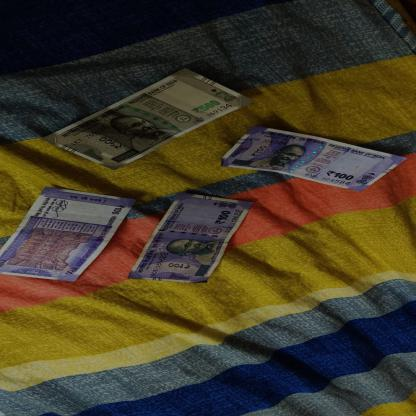New100Back: (0, 186, 138, 282)
New100Front: (220, 126, 408, 192), (126, 192, 256, 284)
New500Front: (39, 68, 256, 171)
